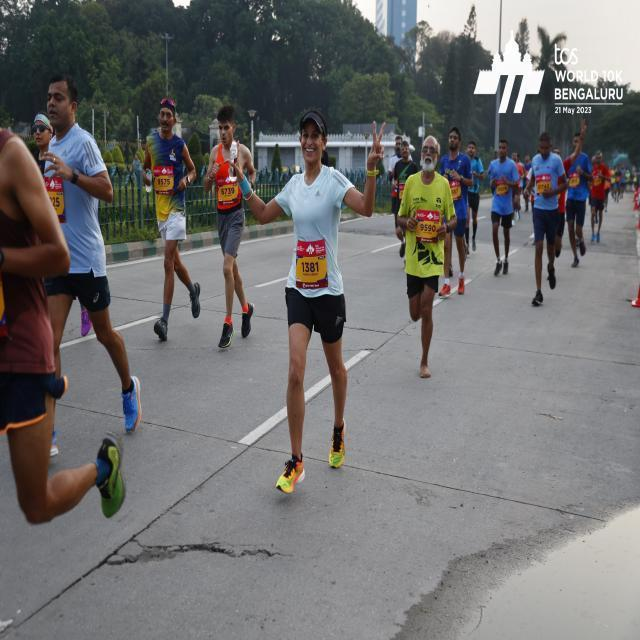dorsal: (297, 236, 326, 295), (152, 162, 176, 196), (416, 209, 438, 243), (216, 174, 239, 204)
